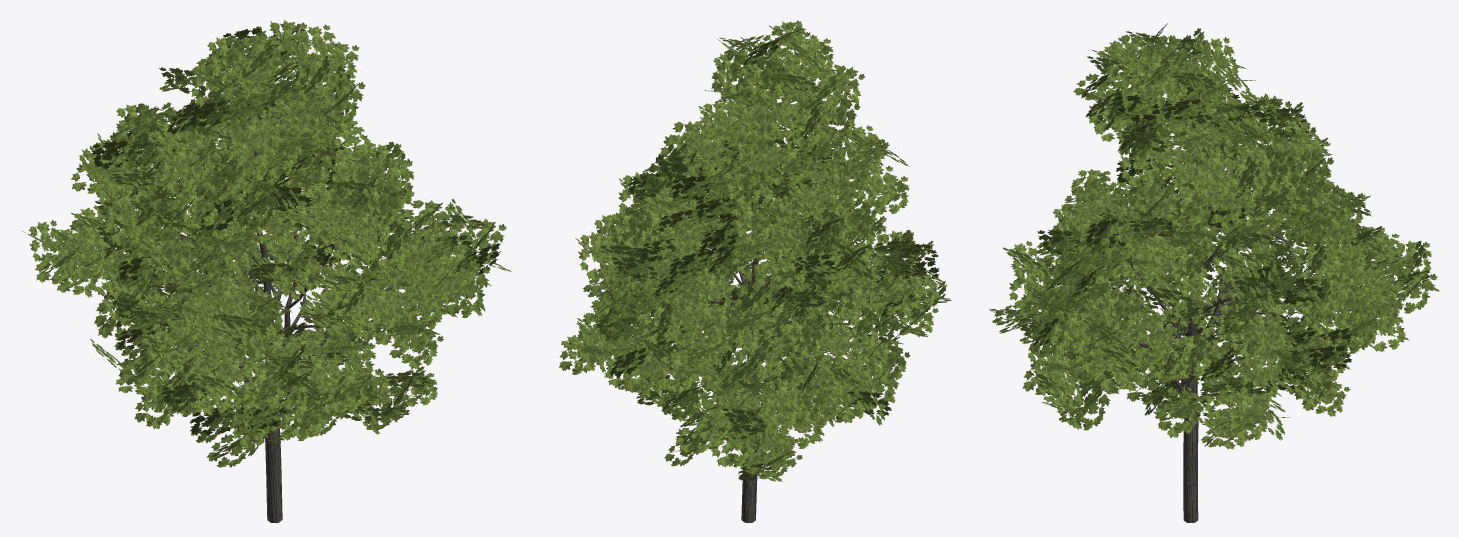
The model's file is sugar_maple_1_hero.obj.
The picture shows the model from 3 angles, left to right: view 1: azimuth 30°, elevation 25°; view 2: azimuth 150°, elevation 25°; view 3: azimuth 270°, elevation 25°; orthographic projection. The views are drawn at different scales.
Visible parts, largest first — view 1: Leaves, Trunk, Branches; view 2: Leaves, Trunk; view 3: Leaves, Trunk, Branches.
Part boxes in pixels (<box>): Leaves: <box>22,19,511,467</box>; Trunk: <box>253,150,282,522</box>; Branches: <box>140,202,392,414</box>; Leaves: <box>559,20,951,481</box>; Trunk: <box>741,173,762,522</box>; Leaves: <box>989,23,1439,449</box>; Trunk: <box>1183,153,1199,522</box>; Branches: <box>1117,185,1306,421</box>.
Size of the model in its own units: 19.27 by 26.24 by 22.77.
Materials: 2 (2 with a texture image).
